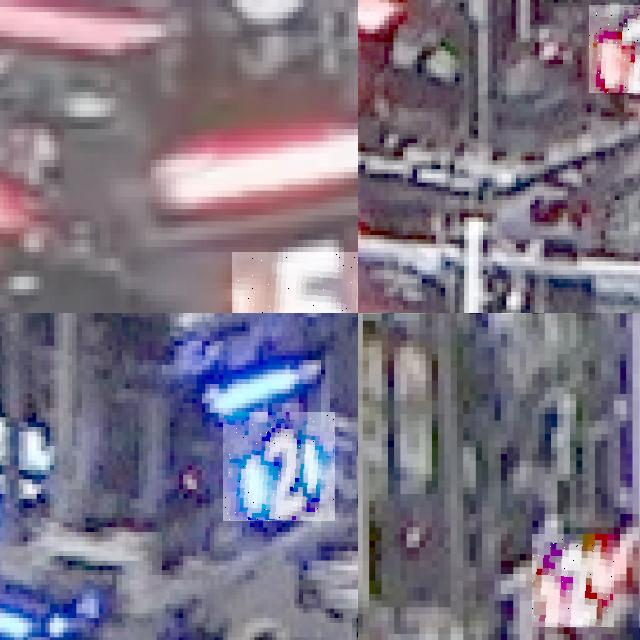B2: (223, 412, 335, 522)
R2: (532, 534, 614, 627), (589, 5, 640, 92)
R5: (232, 252, 358, 313)
